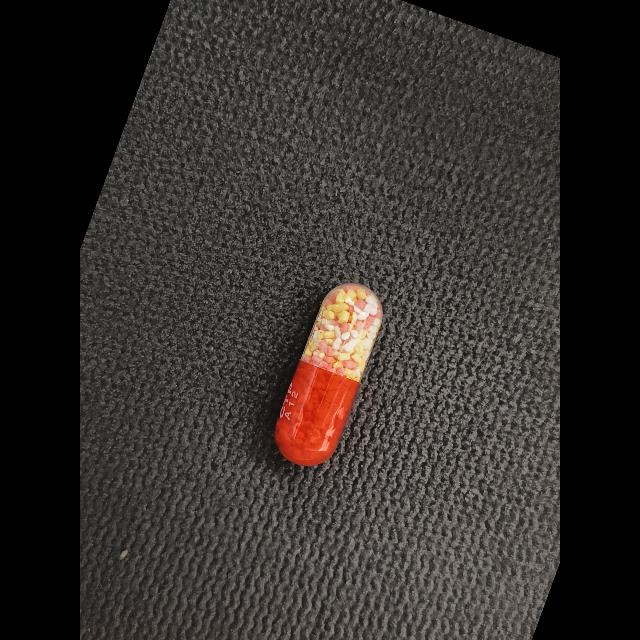Intact Capsule: (275, 283, 383, 466)
